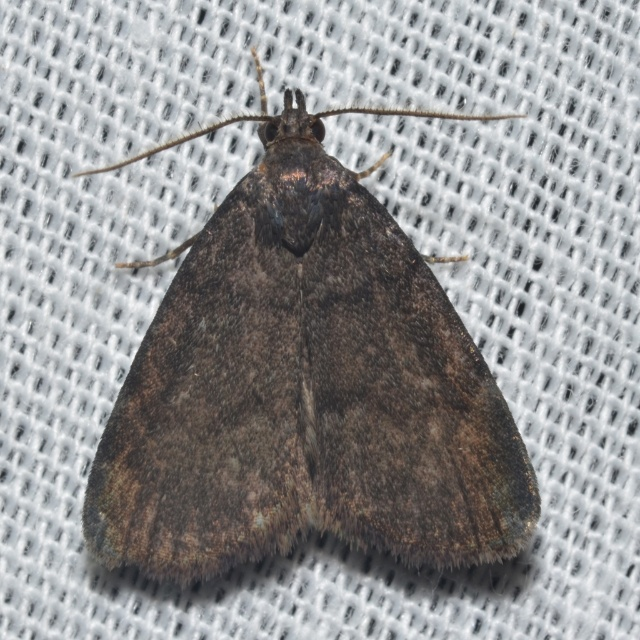Moths and butterflies: (74, 39, 545, 599)
